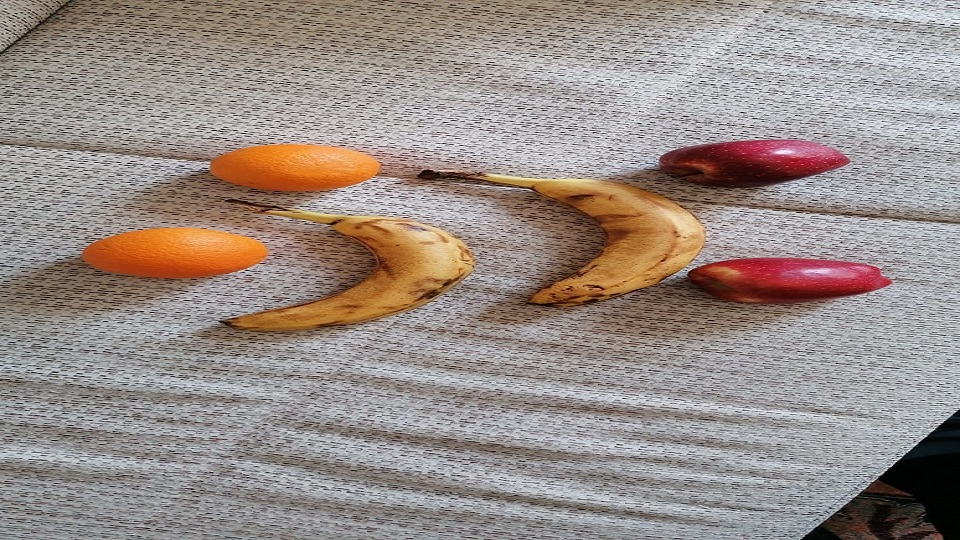elma: (686, 257, 894, 306), (658, 138, 851, 190)
muz: (228, 201, 477, 334), (467, 172, 708, 307)
portakal: (78, 226, 271, 281), (208, 143, 382, 194)
